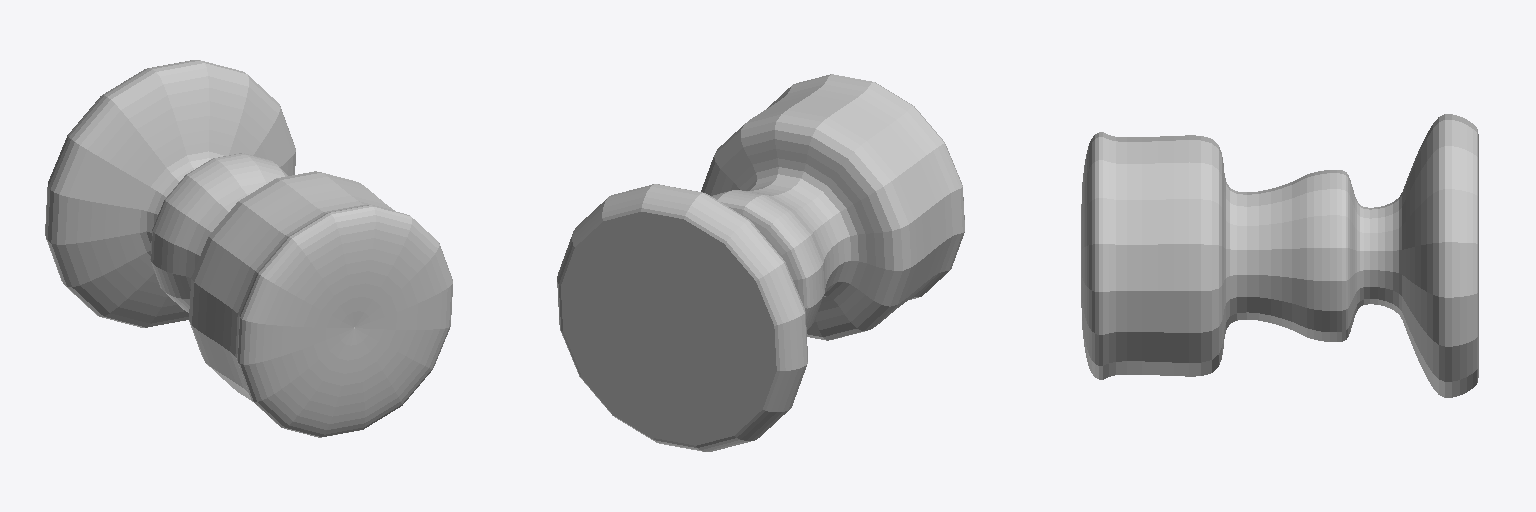
Rendered from rook.obj.
3 renders of one model, left to right at view 1: azimuth 30°, elevation 25°; view 2: azimuth 150°, elevation 25°; view 3: azimuth 270°, elevation 25°, orthographic.
Visible parts, largest first — view 1: Mesh_Mesh.032_black_Tur0; view 2: Mesh_Mesh.032_black_Tur0; view 3: Mesh_Mesh.032_black_Tur0.
Boxes of the visible parts, x1=… form: Mesh_Mesh.032_black_Tur0: x1=45, y1=60, x2=452, y2=437; Mesh_Mesh.032_black_Tur0: x1=557, y1=74, x2=964, y2=451; Mesh_Mesh.032_black_Tur0: x1=1081, y1=114, x2=1478, y2=397.
Size of the model in its own units: 38.62 by 38.62 by 54.36.